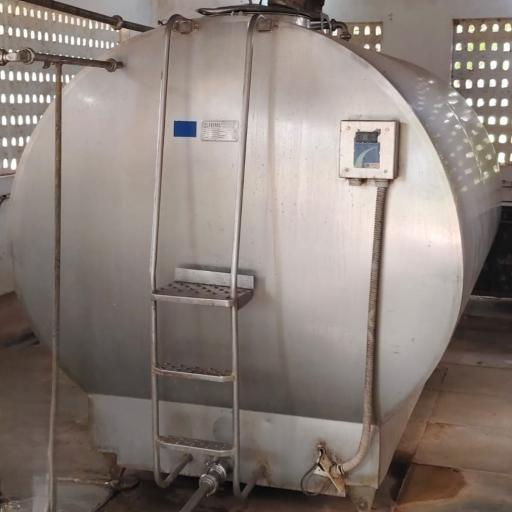silo: (3, 1, 504, 500)
